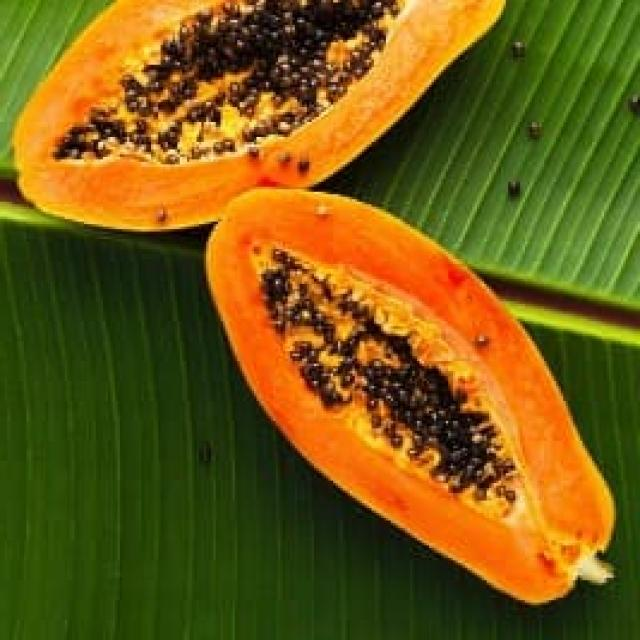Pepaya: (204, 184, 618, 605), (12, 0, 511, 232)
